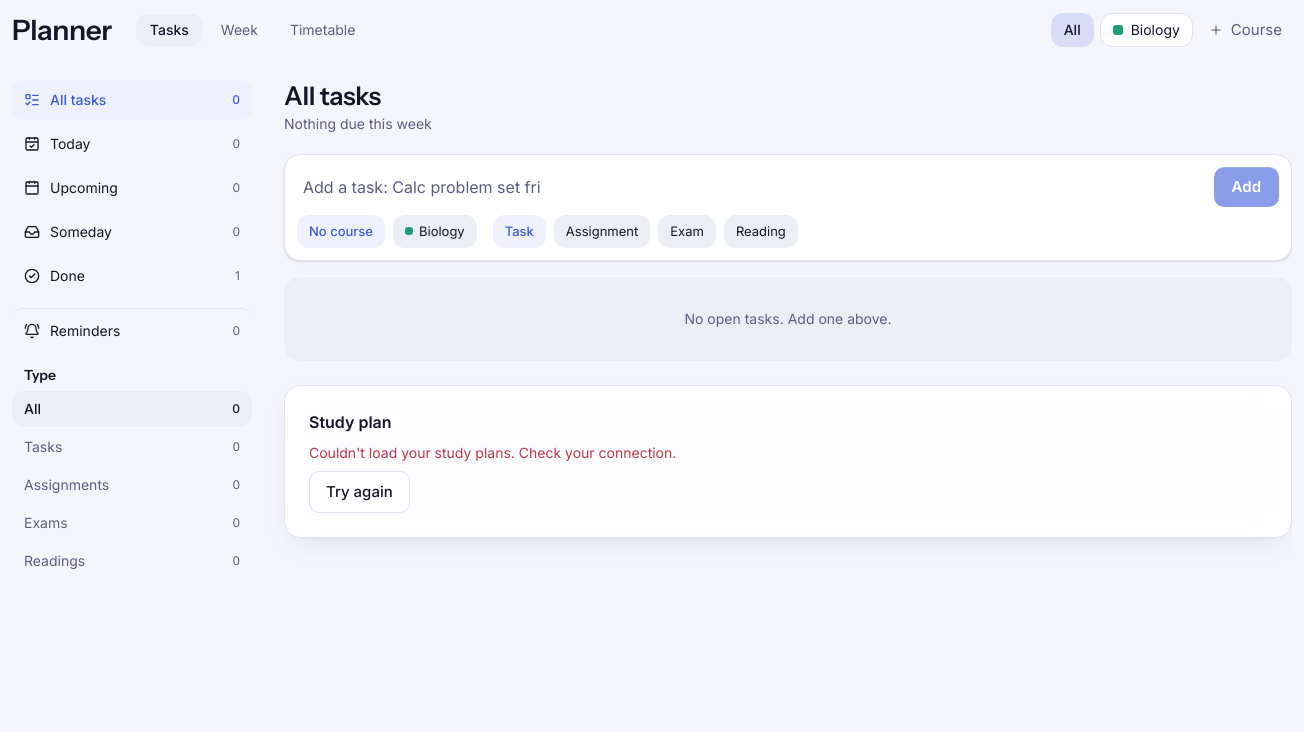
it: Tasks: the lists rail and day groups › tells an empty list what it is for
Click the button "Today 0": (132, 144) [12,124,252,164]
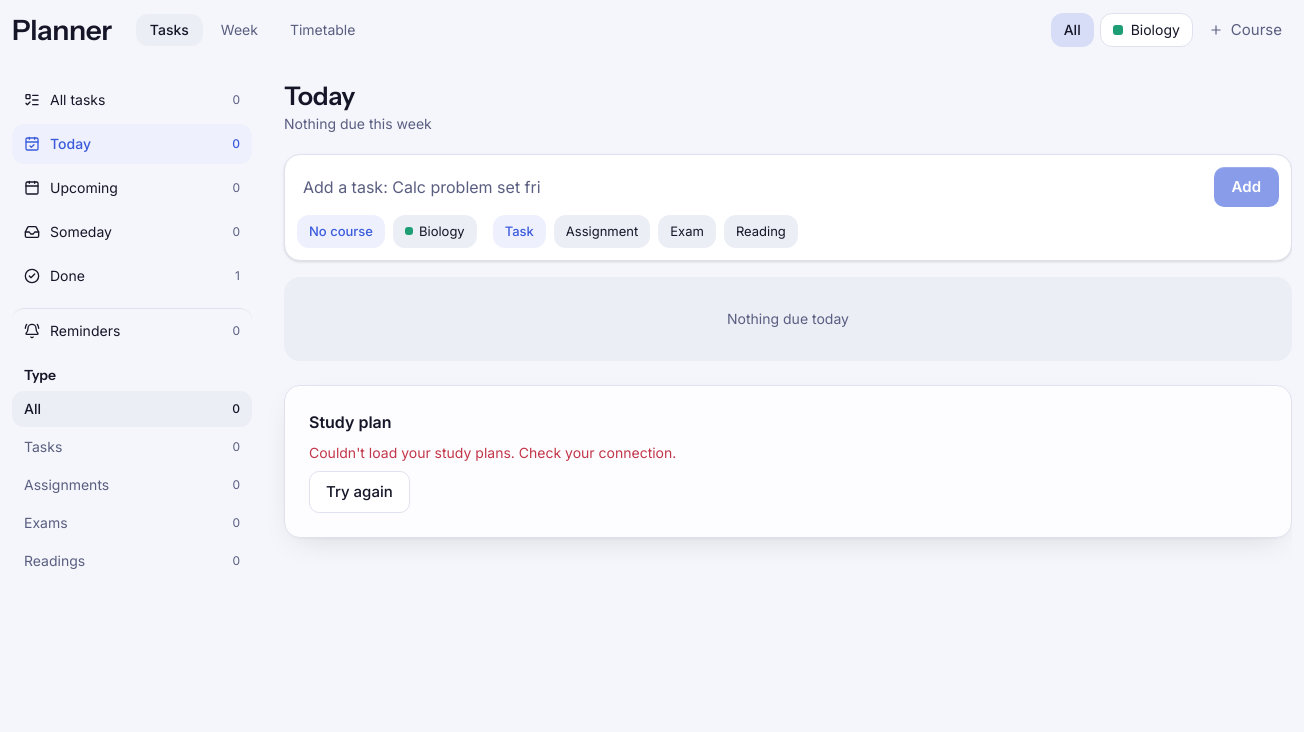
Now the text "Nothing due today" is shown, box [284,277,1292,361]
